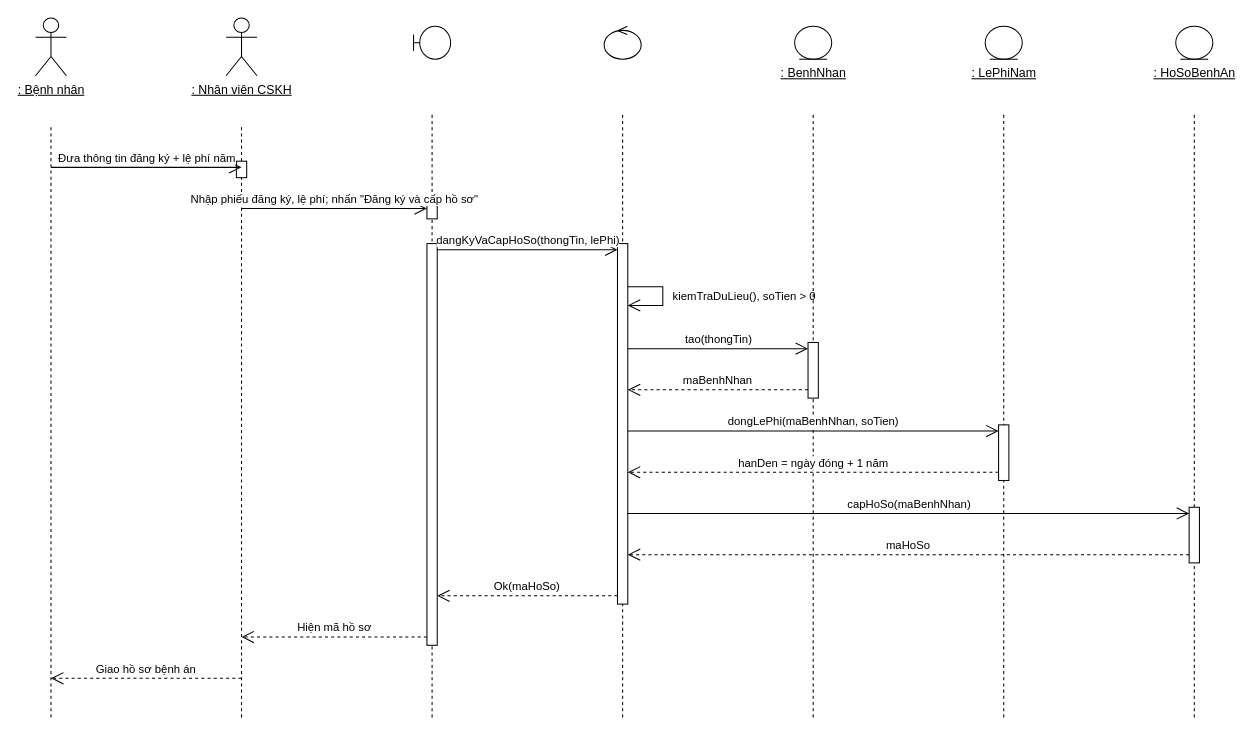
This 1252x739 diagram has some shape labels left out. Each missing label, with the box of its shape:
: Màn hình đăng ký: (413, 25, 451, 59)
: Điều khiển hồ sơ: (603, 25, 641, 59)
